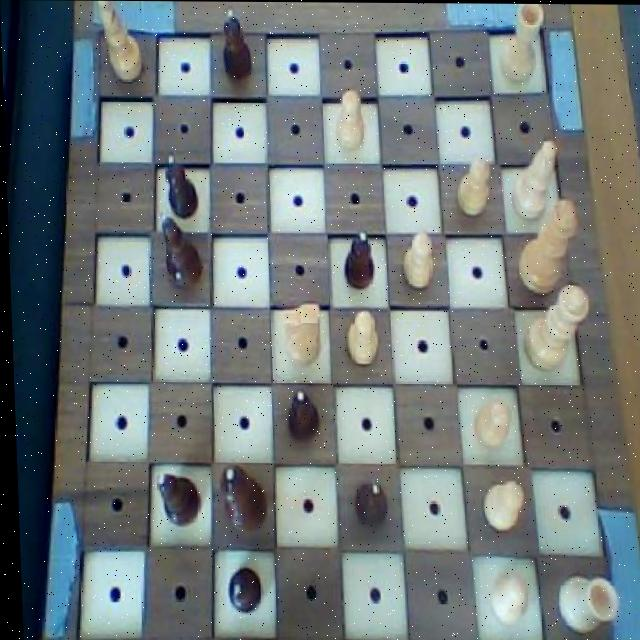bishop: (153, 210, 204, 291), (148, 470, 203, 532)
black-bishop: (213, 463, 267, 535)
black-knight: (214, 3, 256, 86), (159, 149, 200, 223), (279, 386, 322, 447), (220, 563, 264, 622), (346, 477, 389, 533), (340, 226, 377, 291)
black-rook: (92, 1, 149, 89), (507, 134, 560, 221)
white-bishop: (510, 195, 582, 299)
white-king: (277, 294, 324, 369)
white-knight: (476, 473, 526, 538), (469, 393, 515, 454), (483, 567, 529, 628), (453, 153, 494, 219), (330, 85, 366, 154), (397, 230, 435, 293), (342, 306, 380, 368)
white-pawn: (517, 280, 592, 371)
white-queen: (494, 3, 552, 86), (551, 571, 619, 631)
